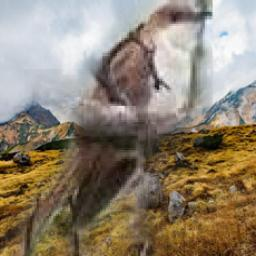Cuckoo: (0, 0, 214, 256)
